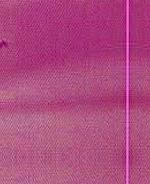knot: (0, 35, 16, 55)
